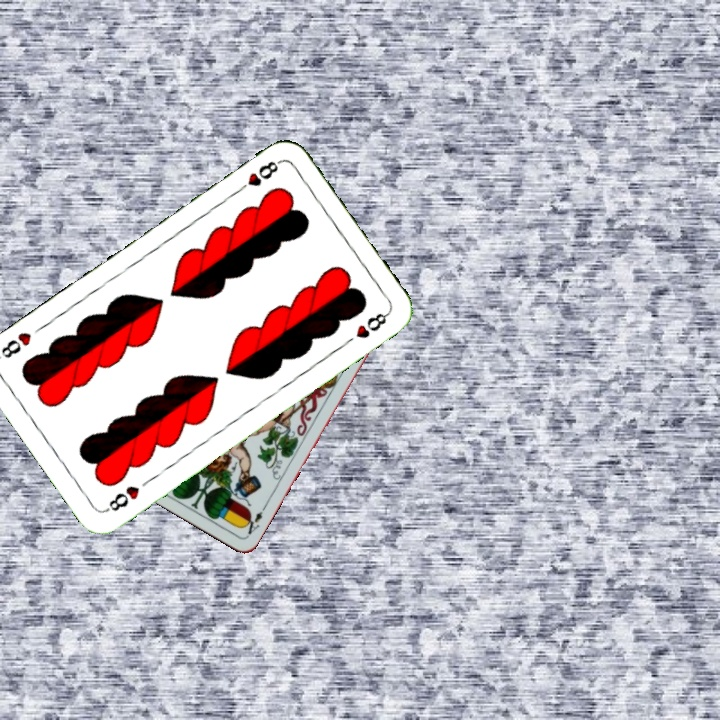EA: (239, 502, 269, 539)
H8: (232, 156, 284, 196), (101, 481, 143, 515)
